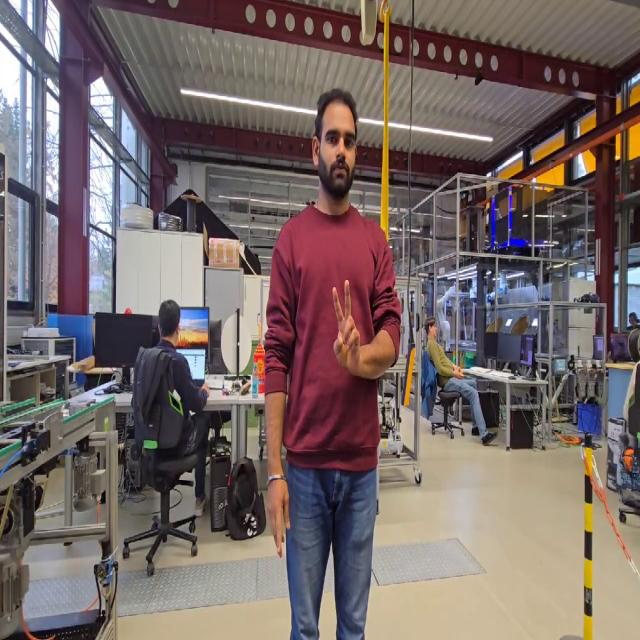v_sign: (329, 276, 363, 378)
